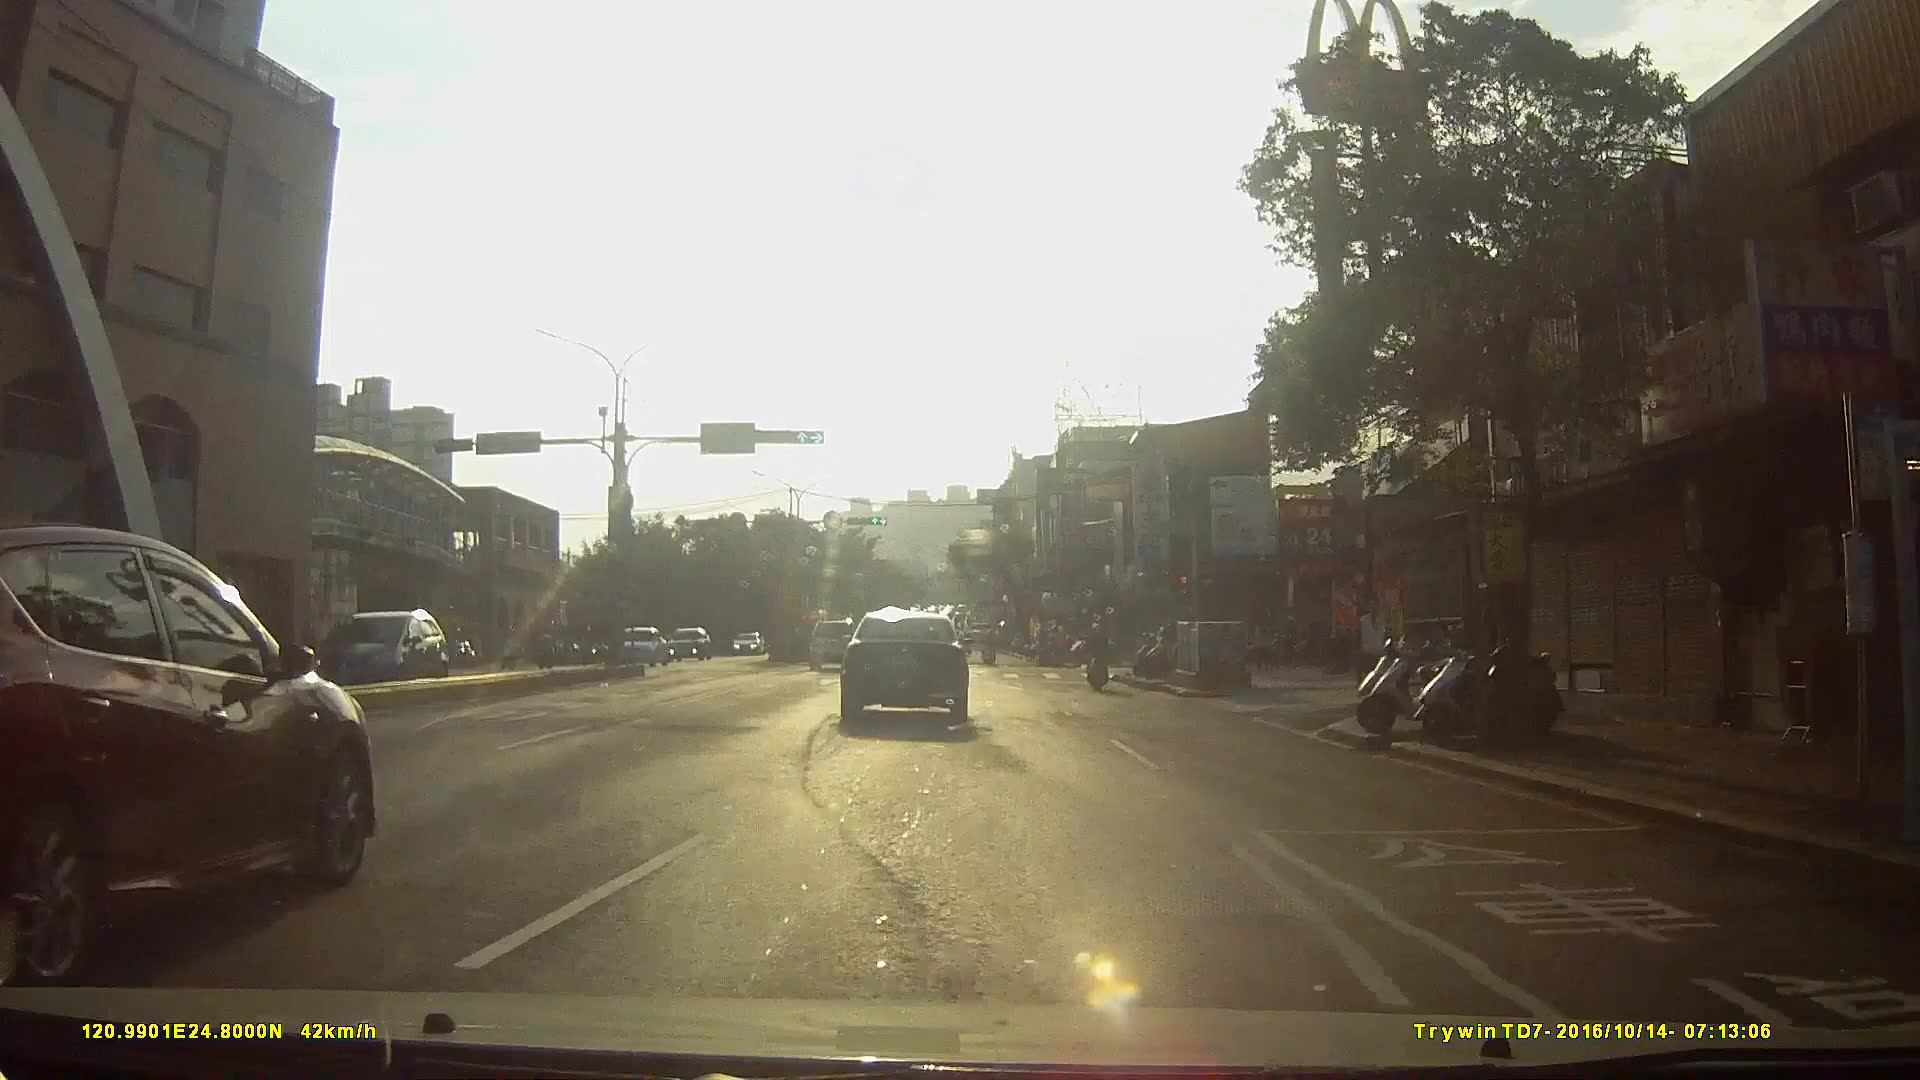pedestrian: (1350, 591, 1396, 699)
rider: (1082, 621, 1110, 693), (1037, 624, 1073, 668), (979, 625, 999, 666)
vehicle: (1, 520, 383, 992), (837, 610, 983, 735), (301, 601, 463, 695), (805, 615, 864, 670), (614, 626, 671, 669), (668, 625, 714, 665), (729, 628, 767, 656)
